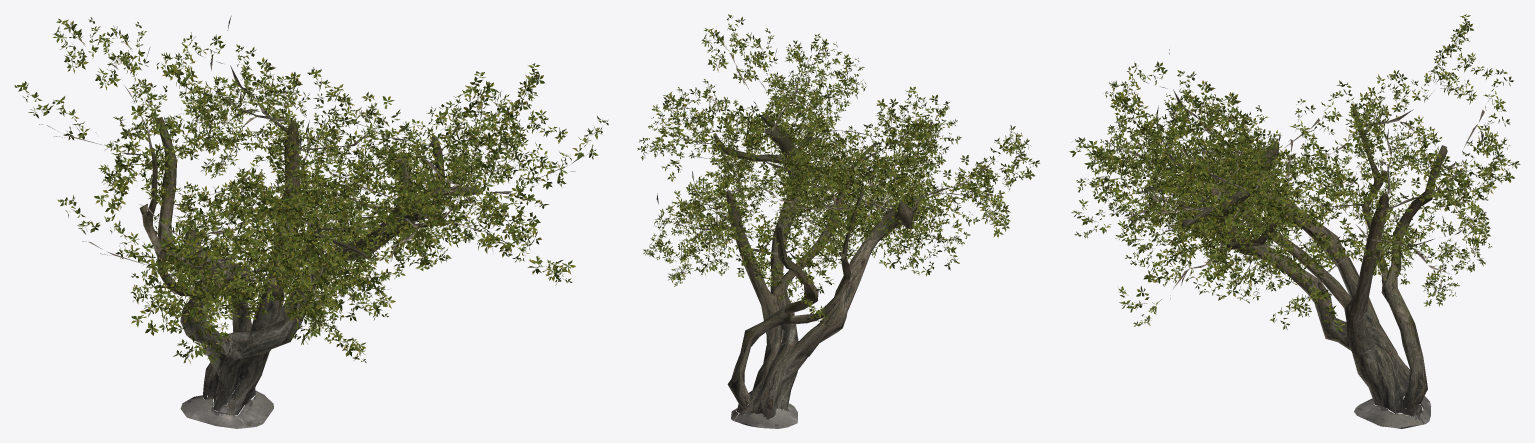
File: island_tree_02.glb
3 renders of one model, left to right at view 1: azimuth 30°, elevation 25°; view 2: azimuth 150°, elevation 25°; view 3: azimuth 270°, elevation 25°, orthographic. The views are drawn at different scales.
Visible parts, largest first — view 1: island_tree_02_LOD0; view 2: island_tree_02_LOD0; view 3: island_tree_02_LOD0.
Part boxes in pixels (x1,y1,x2,y2): island_tree_02_LOD0: [14, 15, 608, 428]; island_tree_02_LOD0: [637, 14, 1039, 428]; island_tree_02_LOD0: [1069, 14, 1520, 428].
Bounding box in the file's own units: 3.87 × 3.41 × 4.07.
Materials: 3 (3 with a texture image).
